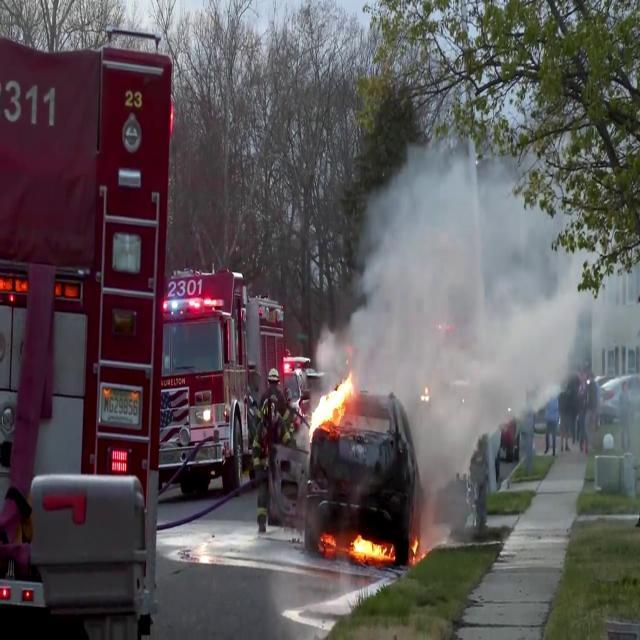Fire: (309, 368, 356, 438), (318, 527, 394, 565), (342, 528, 394, 565)
Smoke: (334, 110, 582, 464)
